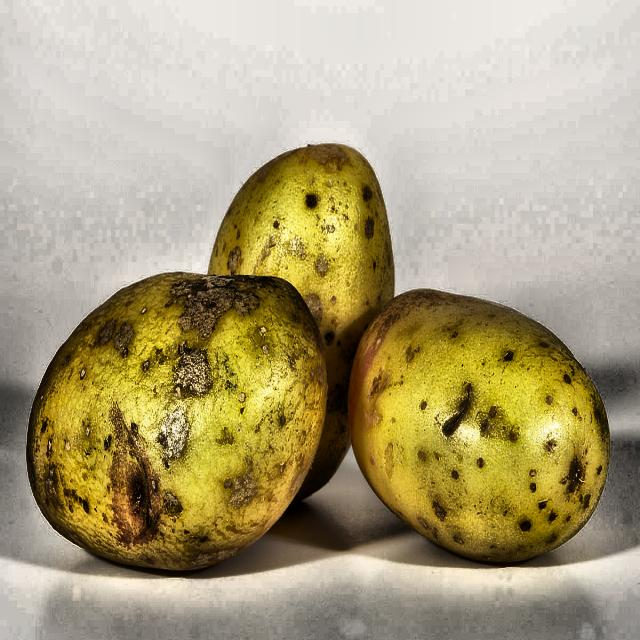potato: (28, 122, 614, 616)
